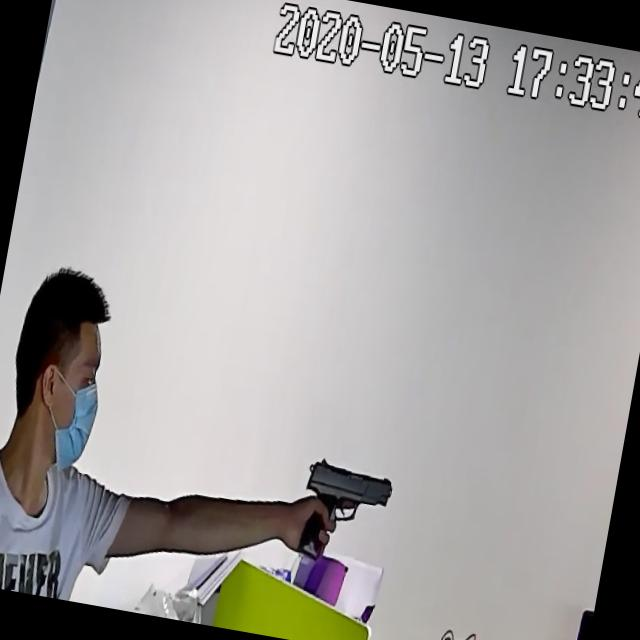Guns: (286, 440, 404, 583)
